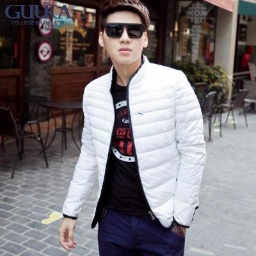face: (97, 1, 150, 64)
